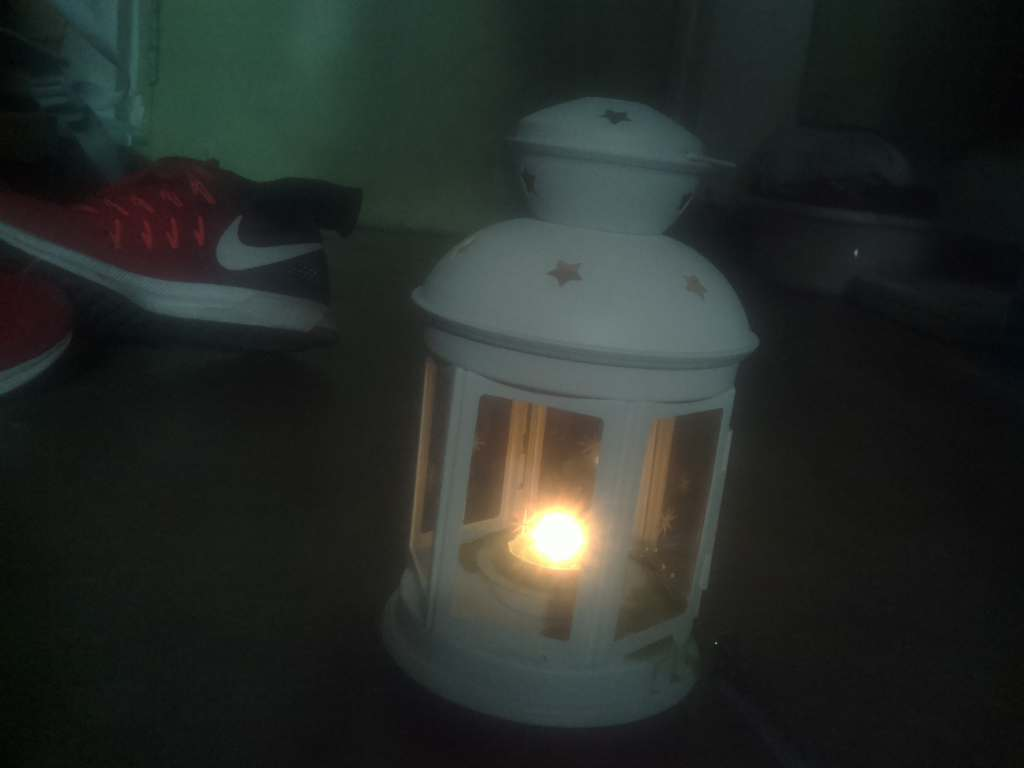fire: (499, 494, 625, 606)
